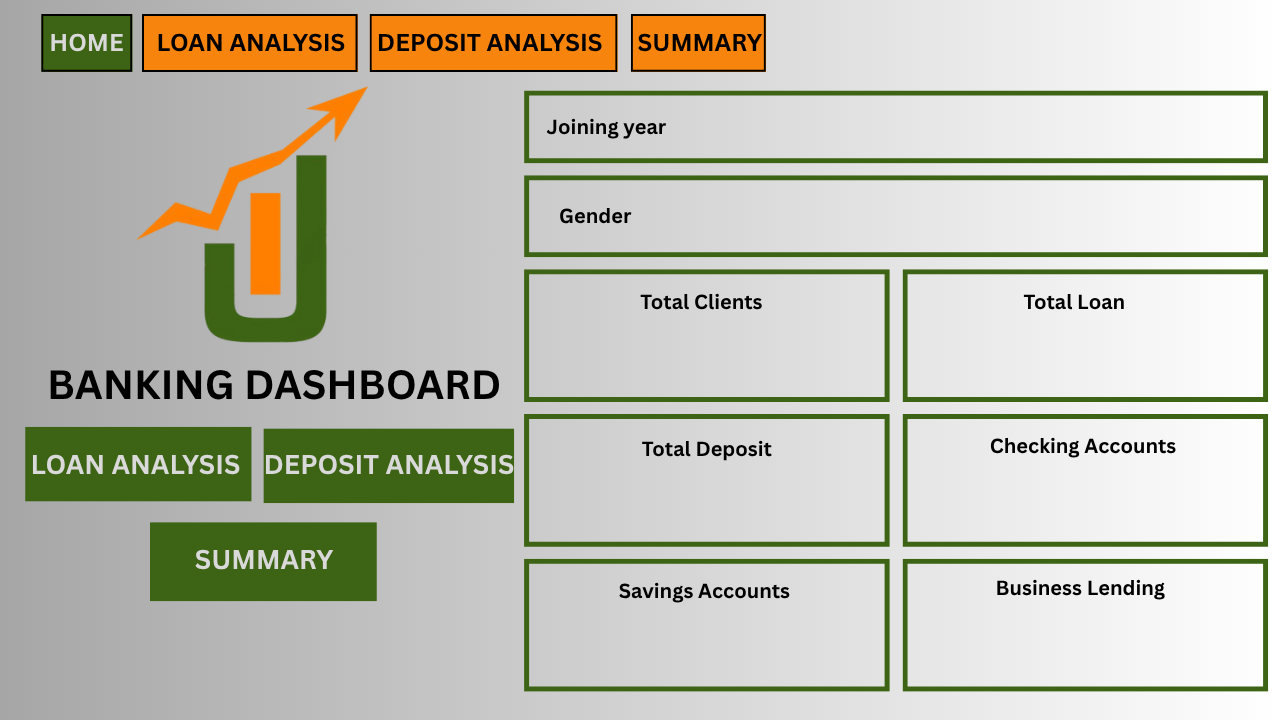

What the dashboard file says about the page in this screenshot:
{"tool":"powerbi","page":{"name":"HOME","canvas":[1280,720],"ordinal":0},"visuals":[{"type":"card","fields":{"Values":["banking_case customer.Name"]},"box":[631,306.4,146,66.4],"z":0},{"type":"slicer","fields":{"Values":["banking_case customer.GenderId"]},"box":[620.1,178.6,631,71.2],"z":1000},{"type":"card","fields":{"Values":["banking_case customer.Total Loan"]},"box":[991.7,306.4,177.3,66.4],"z":2000},{"type":"card","fields":{"Values":["banking_case customer.Total  Deposit"]},"box":[608,451.2,190.6,65.1],"z":3000},{"type":"slicer","fields":{"Values":["banking_case customer.Year of Joining"]},"box":[650.3,101.3,616.5,49.5],"z":4000},{"type":"card","fields":{"Values":["banking_case customer.Checking Accounts"]},"box":[959.1,451.2,242.5,65.1],"z":5000},{"type":"card","fields":{"Values":["banking_case customer.Business Lending"]},"box":[976,593.6,209.9,66.4],"z":6000},{"type":"card","fields":{"Values":["banking_case customer.Saving Accounts"]},"box":[597.2,593.6,216,66.4],"z":7000},{"type":"actionButton","box":[31.6,428.1,214.1,65.9],"z":8000},{"type":"actionButton","box":[262.1,428.1,249.7,76.8],"z":9000},{"type":"actionButton","box":[155.1,526.9,214.1,65.9],"z":10000}]}

Visuals, with their boxes in screenshot pixels (x1, y1, x2, y2), scaled from the page's 1280x720 canvas onto the 1280x720 screenshot:
card - banking_case customer.Name: x1=631 y1=306 x2=777 y2=373
slicer - banking_case customer.GenderId: x1=620 y1=179 x2=1251 y2=250
card - banking_case customer.Total Loan: x1=992 y1=306 x2=1169 y2=373
card - banking_case customer.Total  Deposit: x1=608 y1=451 x2=799 y2=516
slicer - banking_case customer.Year of Joining: x1=650 y1=101 x2=1267 y2=151
card - banking_case customer.Checking Accounts: x1=959 y1=451 x2=1202 y2=516
card - banking_case customer.Business Lending: x1=976 y1=594 x2=1186 y2=660
card - banking_case customer.Saving Accounts: x1=597 y1=594 x2=813 y2=660
actionButton: x1=32 y1=428 x2=246 y2=494
actionButton: x1=262 y1=428 x2=512 y2=505
actionButton: x1=155 y1=527 x2=369 y2=593
